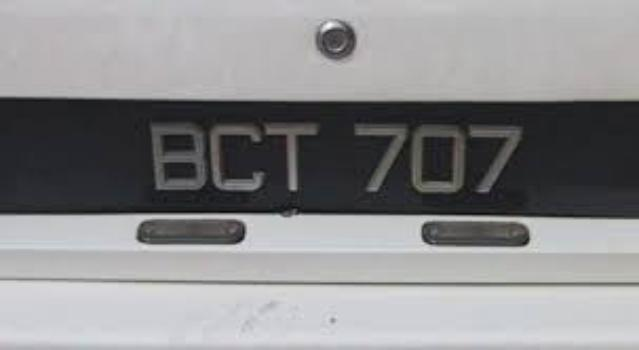License_Plate: (1, 111, 621, 213)
